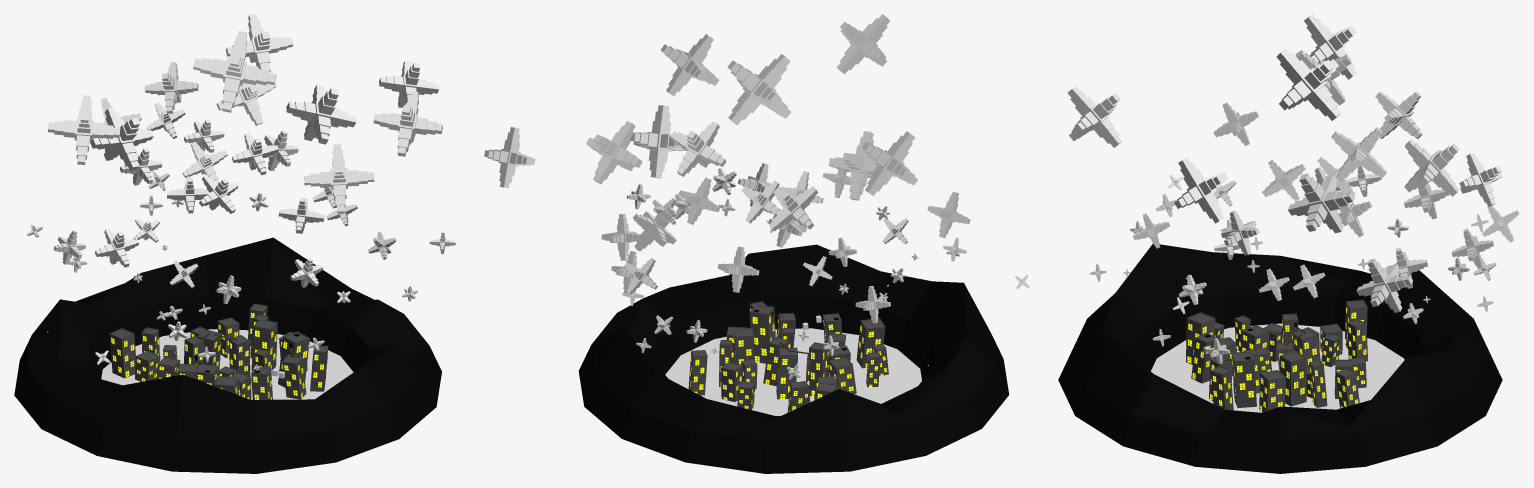
The model's file is map3.fbx.
3 renders of one model, left to right at view 1: azimuth 30°, elevation 25°; view 2: azimuth 150°, elevation 25°; view 3: azimuth 270°, elevation 25°, orthographic. The views are drawn at different scales.
Parts seen in each view (by area): view 1: wall, stars, buildings, tree_spawn; view 2: wall, stars, buildings, tree_spawn; view 3: wall, stars, buildings, tree_spawn.
Part boxes in pixels (bbox=[...]): wall: bbox=[14, 237, 441, 473]; stars: bbox=[26, 14, 455, 370]; buildings: bbox=[109, 303, 328, 399]; tree_spawn: bbox=[101, 329, 353, 399]; wall: bbox=[578, 244, 1009, 473]; stars: bbox=[484, 14, 1029, 379]; buildings: bbox=[688, 301, 888, 412]; tree_spawn: bbox=[665, 328, 921, 415]; wall: bbox=[1058, 243, 1502, 473]; stars: bbox=[1067, 14, 1519, 363]; buildings: bbox=[1186, 299, 1367, 412]; tree_spawn: bbox=[1151, 323, 1404, 412].
Bounding box in the file's own units: 51688 × 37033 × 45215.
